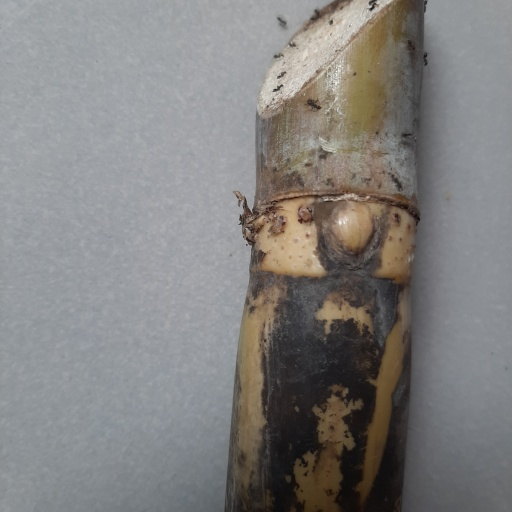Bud: (325, 199, 377, 258)
